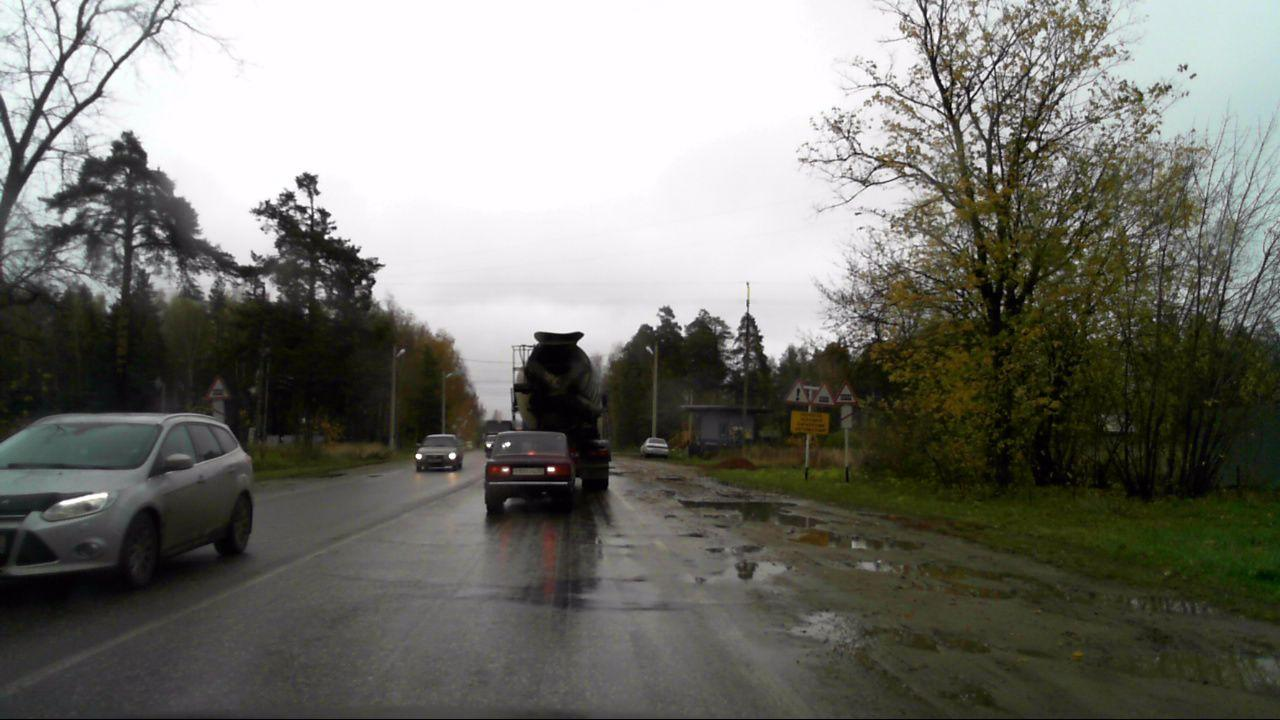road_sign: (782, 378, 811, 405), (809, 379, 837, 406), (834, 378, 861, 404)
